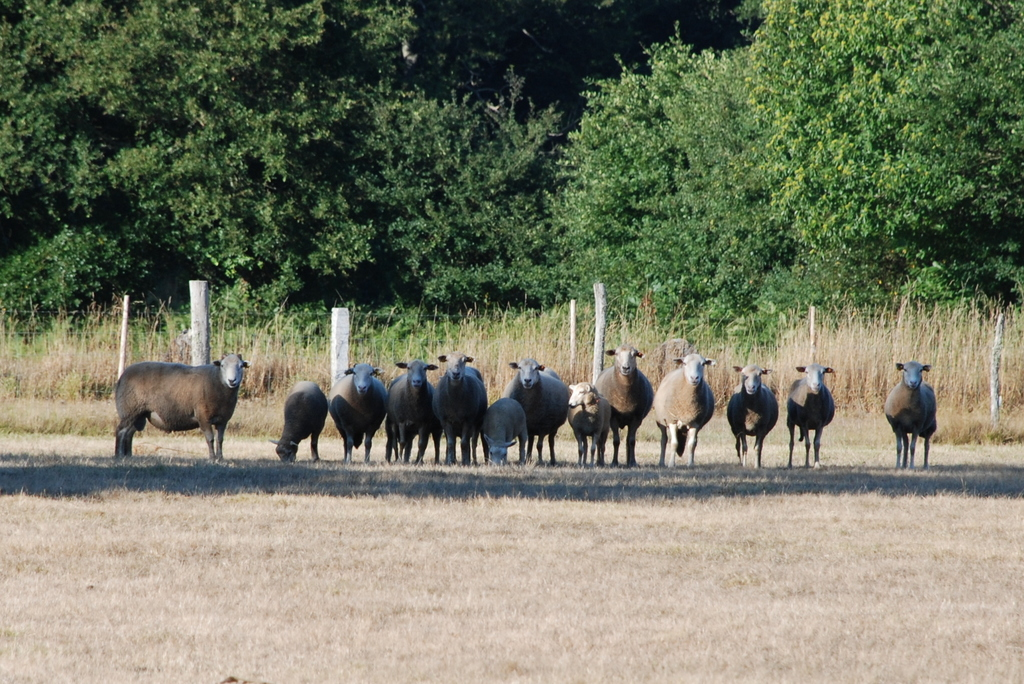sheep: (99, 338, 249, 468)
